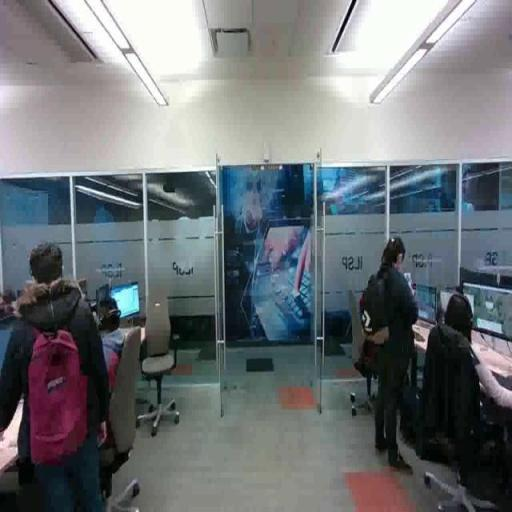person: (1, 246, 111, 512), (376, 237, 421, 476)
